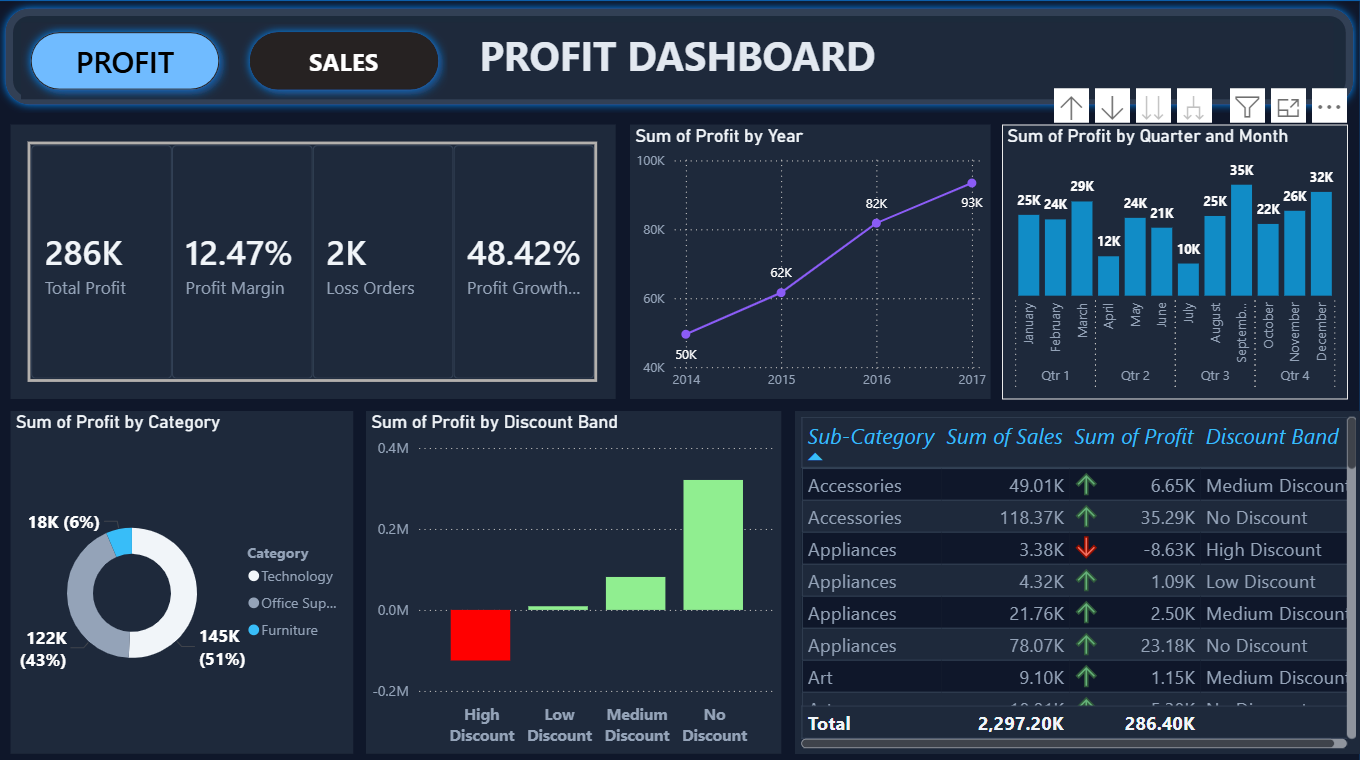

This screenshot's page, from the dashboard's own definition file:
{"tool":"powerbi","page":{"name":"Page 3","canvas":[1280,720],"ordinal":0},"visuals":[{"type":"shape","box":[0,0,1279.5,720],"z":0},{"type":"shape","box":[0,0,1279.5,106],"z":1000},{"type":"textbox","box":[23.1,21.5,1230.8,72.3],"z":2000},{"type":"bookmarkNavigator","box":[23.1,21.5,400,72.3],"z":3000},{"type":"donutChart","fields":{"Category":["Sample - Superstore (3).Category"],"Y":["Sum(Sample - Superstore (3).Profit)"]},"box":[12.5,360,321,346],"z":4000},{"type":"lineChart","fields":{"Category":["Sample - Superstore (3).Order Date.Variation.Date Hierarchy.Year"],"Y":["Sum(Sample - Superstore (3).Profit)"]},"box":[593.8,116.9,338.2,257.1],"z":5000},{"type":"clusteredColumnChart","fields":{"Category":["Sample - Superstore (3).Order Date.Variation.Date Hierarchy.Quarter","Sample - Superstore (3).Order Date.Variation.Date Hierarchy.Month"],"Y":["Sum(data.Profit)"]},"box":[942.9,116.9,324.2,257.1],"z":6000},{"type":"lineStackedColumnComboChart","fields":{"Category":["data.Discount Band"],"Y":["Sum(data.Profit)"]},"box":[346,384.9,389.6,321],"z":8000},{"type":"cardVisual","fields":{"Data":["Sum(Sample - Superstore (3).Sales)","Sum(Sample - Superstore (3).Profit)","Sum(data.Quantity)","data.Profit Margin"]},"box":[12.5,116.9,568.8,232.2],"z":9000},{"type":"tableEx","fields":{"Values":["Sample - Superstore (3).Sub-Category","Sum(Sample - Superstore (3).Sales)","Sum(Sample - Superstore (3).Profit)","data.Discount Band"]},"box":[748.1,384.9,531.4,321],"z":10000}]}

Visuals, with their boxes in screenshot pixels (x1, y1, x2, y2), scaled from the page's 1280x720 canvas onto the 1360x760 screenshot:
shape: bbox(0, 0, 1359, 759)
shape: bbox(0, 0, 1359, 112)
textbox: bbox(25, 23, 1332, 99)
bookmarkNavigator: bbox(25, 23, 450, 99)
donutChart - Sample - Superstore (3).Category x Sum(Sample - Superstore (3).Profit): bbox(13, 380, 354, 745)
lineChart - Sample - Superstore (3).Order Date.Variation.Date Hierarchy.Year x Sum(Sample - Superstore (3).Profit): bbox(631, 123, 990, 395)
clusteredColumnChart - Sample - Superstore (3).Order Date.Variation.Date Hierarchy.Quarter x Sample - Superstore (3).Order Date.Variation.Date Hierarchy.Month: bbox(1002, 123, 1346, 395)
lineStackedColumnComboChart - data.Discount Band x Sum(data.Profit): bbox(368, 406, 782, 745)
cardVisual - Sum(Sample - Superstore (3).Sales) x Sum(Sample - Superstore (3).Profit): bbox(13, 123, 618, 368)
tableEx - Sample - Superstore (3).Sub-Category x Sum(Sample - Superstore (3).Sales): bbox(795, 406, 1359, 745)
